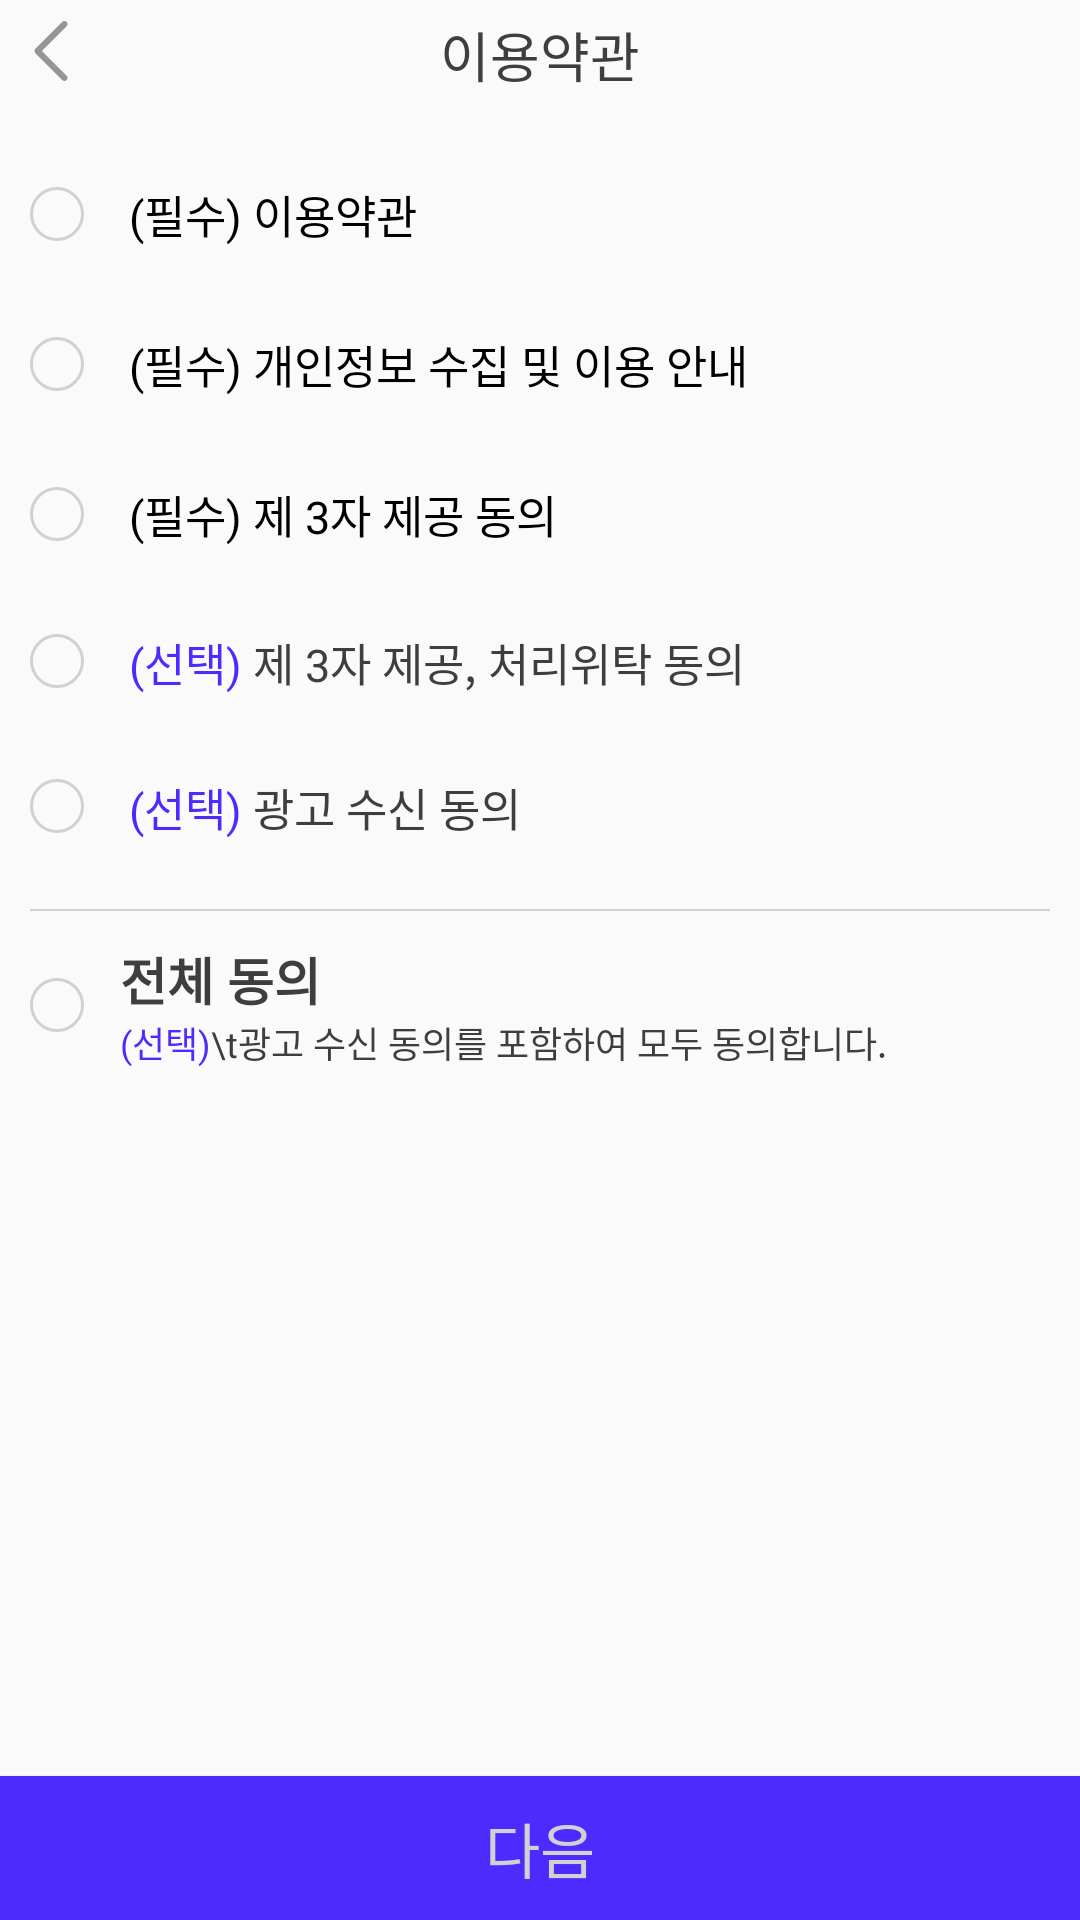

Where icons sit on this 1080px×1920px app screen, as (x1=x1, y1=y1, x2=x2, y2=y2):
chevron left: (x1=34, y1=21, x2=68, y2=81)
